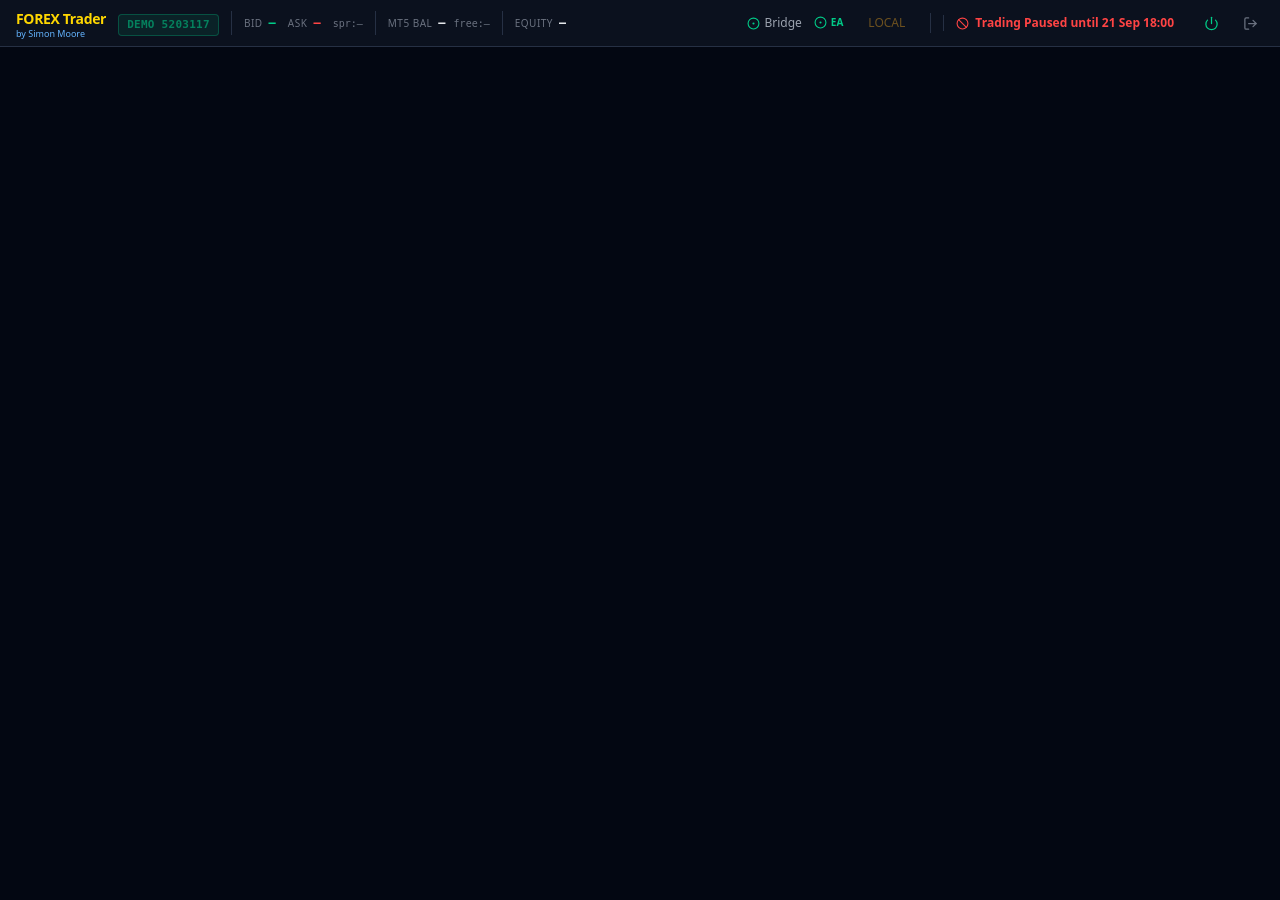
Test: pausing and resuming, from the one control › offers Resume when it is paused
Click the button with test id "trading-status-badge".
click(1065, 23)  # box x1=943 y1=15 x2=1186 y2=31
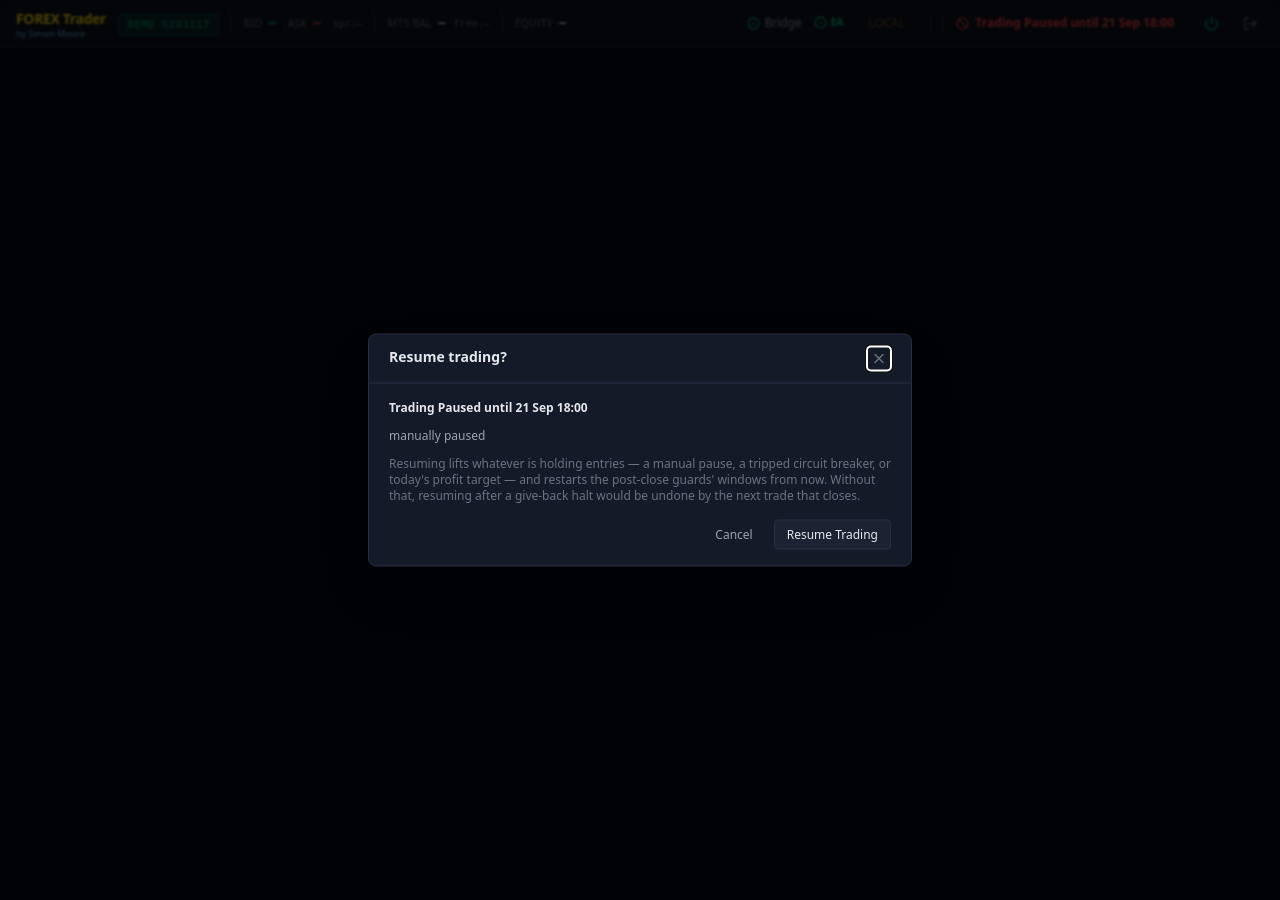
Now the button "Resume Trading" is shown, box x1=774 y1=520 x2=891 y2=550
